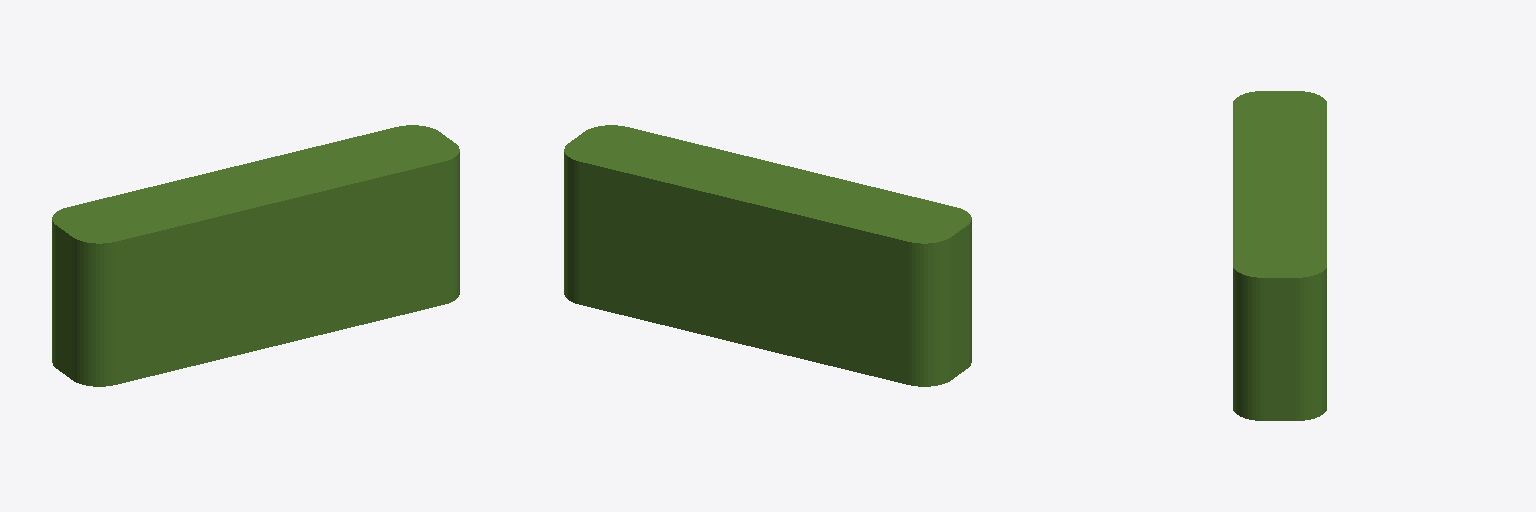
File: Hedge2.obj
3 renders of one model, left to right at view 1: azimuth 30°, elevation 25°; view 2: azimuth 150°, elevation 25°; view 3: azimuth 270°, elevation 25°, orthographic.
Parts seen in each view (by area): view 1: mergedBlocks; view 2: mergedBlocks; view 3: mergedBlocks.
Part boxes in pixels (bbox=[...]): mergedBlocks: bbox=[52, 125, 459, 386]; mergedBlocks: bbox=[564, 125, 971, 386]; mergedBlocks: bbox=[1233, 91, 1326, 420].
Bounding box in the file's own units: 1.01 × 0.36 × 0.216.